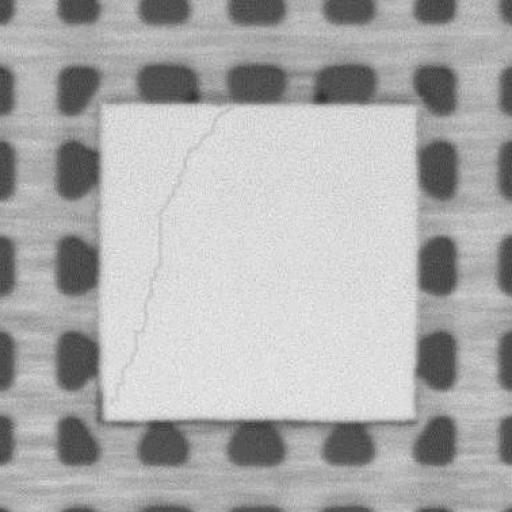DIE_CRACK: (112, 104, 234, 403)
